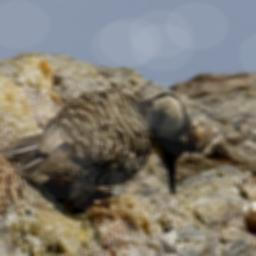Woodpecker: (0, 83, 194, 224)
